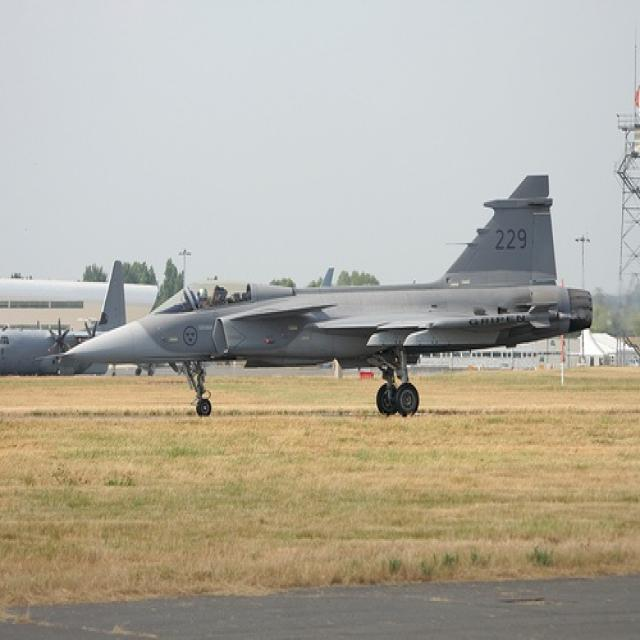aeroplane: (54, 170, 594, 417), (0, 257, 127, 381)
